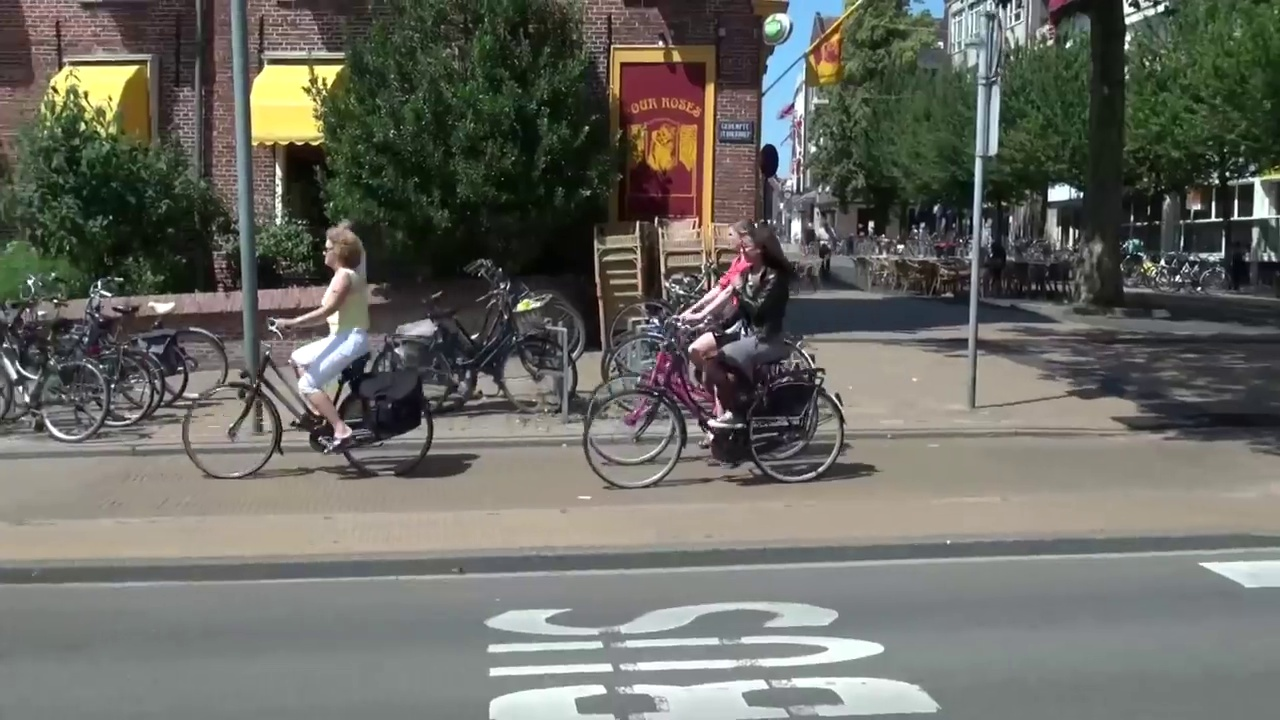cyclist_side: (570, 226, 862, 495), (188, 212, 439, 484)
